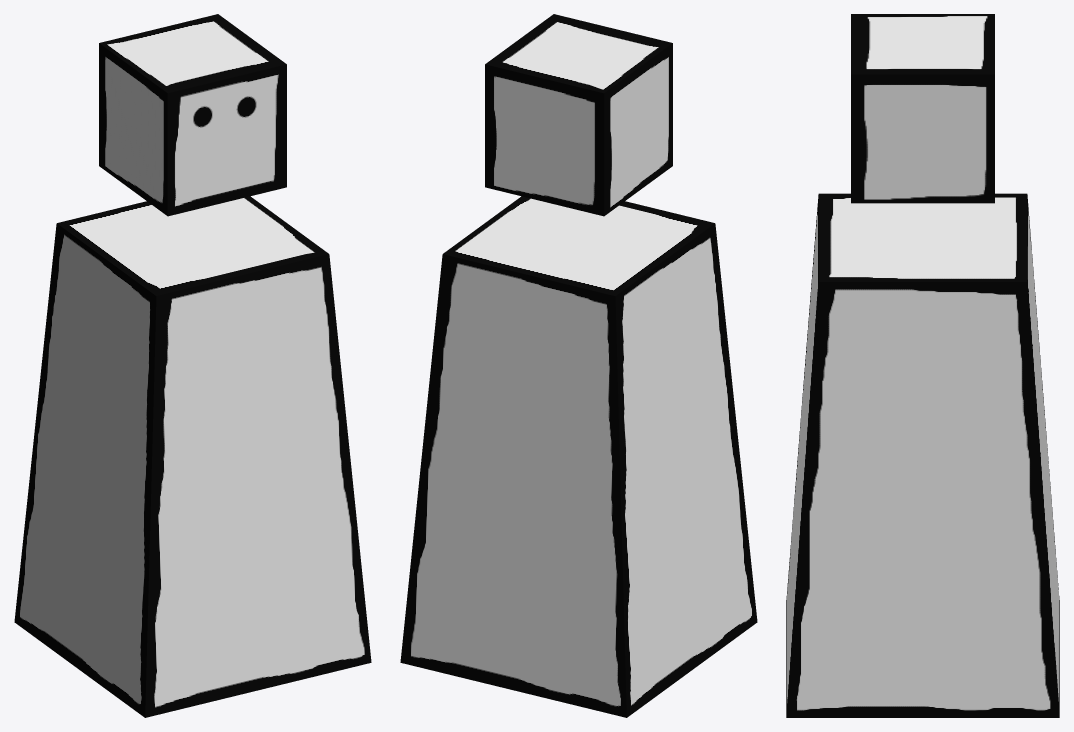
File: character_01.fbx
The picture shows the model from 3 angles, left to right: view 1: azimuth 30°, elevation 25°; view 2: azimuth 150°, elevation 25°; view 3: azimuth 270°, elevation 25°; orthographic projection. The views are drawn at different scales.
Parts seen in each view (by area): view 1: character_01; view 2: character_01; view 3: character_01.
Part boxes in pixels (left/top/right/bottom): character_01: left=14, top=14, right=371, bottom=717; character_01: left=400, top=14, right=757, bottom=717; character_01: left=786, top=14, right=1059, bottom=717.
Bounding box in the file's own units: 0.4116 × 1.02 × 0.4116.
1 material, 1 textured.
